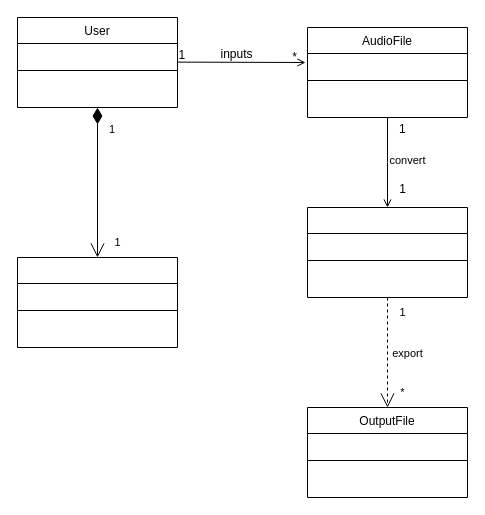
This 485x515 diagram has some shape labels left out. Each missing label, with the box of its shape:
Preferences: (16, 256, 178, 348)
Transcription: (306, 206, 468, 298)
